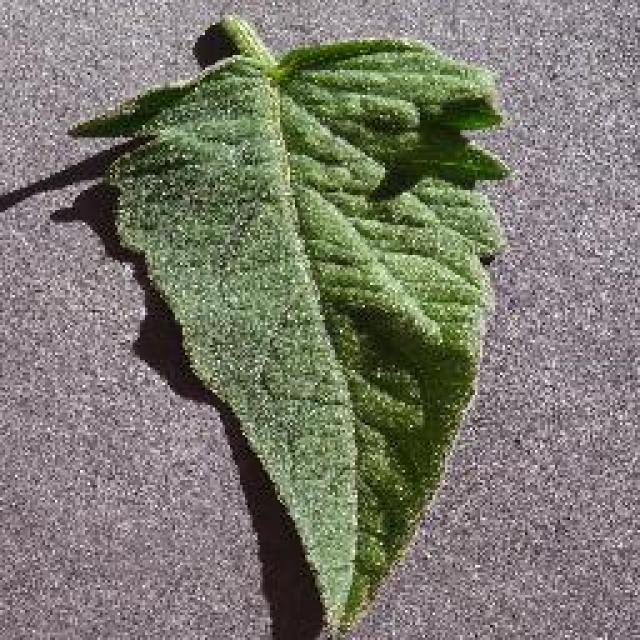Tomato___healthy: (66, 11, 519, 634)
